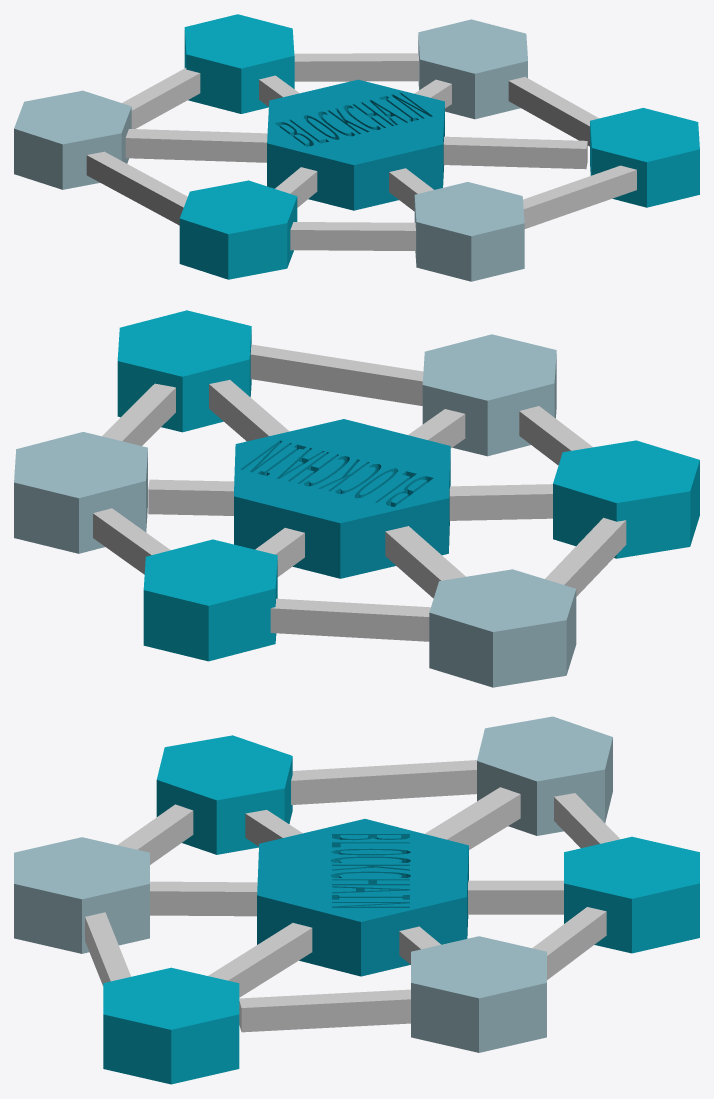
The model's file is asset.glb.
The picture shows the model from 3 angles, top to bottom: view 1: azimuth 30°, elevation 25°; view 2: azimuth 150°, elevation 25°; view 3: azimuth 270°, elevation 25°; orthographic projection. The views are drawn at different scales.
Visible parts, largest first — view 1: Mesh_Mesh_head_geo.001_lambert2SG.001; view 2: Mesh_Mesh_head_geo.001_lambert2SG.001; view 3: Mesh_Mesh_head_geo.001_lambert2SG.001.
Part boxes in pixels (x1=…): Mesh_Mesh_head_geo.001_lambert2SG.001: x1=14, y1=14, x2=699, y2=281; Mesh_Mesh_head_geo.001_lambert2SG.001: x1=14, y1=310, x2=699, y2=687; Mesh_Mesh_head_geo.001_lambert2SG.001: x1=14, y1=716, x2=699, y2=1084.
Bounding box in the file's own units: 109 × 10 × 102.
